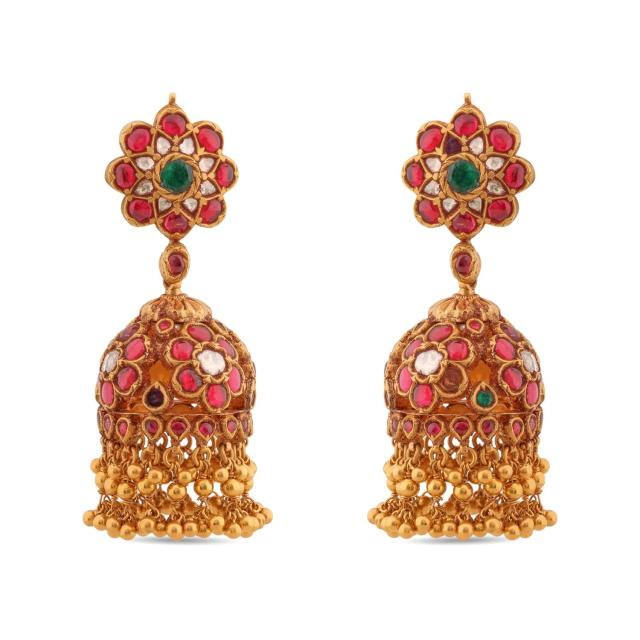missing gem: (441, 370, 460, 390), (148, 390, 163, 406), (446, 139, 461, 154)
